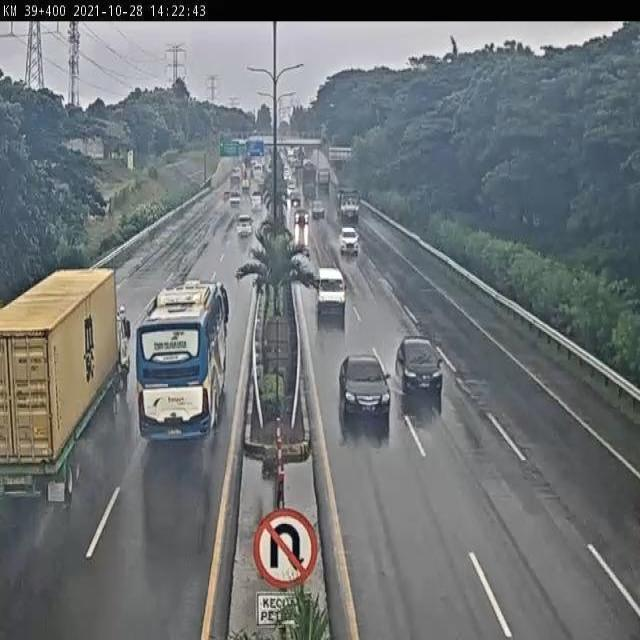Bus: (0, 245, 136, 511), (132, 281, 232, 456)
Car: (339, 346, 388, 428), (392, 332, 447, 404), (336, 221, 363, 260), (235, 211, 255, 242), (292, 204, 311, 230), (310, 199, 325, 220), (288, 190, 301, 208), (230, 192, 243, 209)
Truck: (336, 186, 363, 223), (315, 168, 331, 190)
Van: (314, 263, 346, 324)
